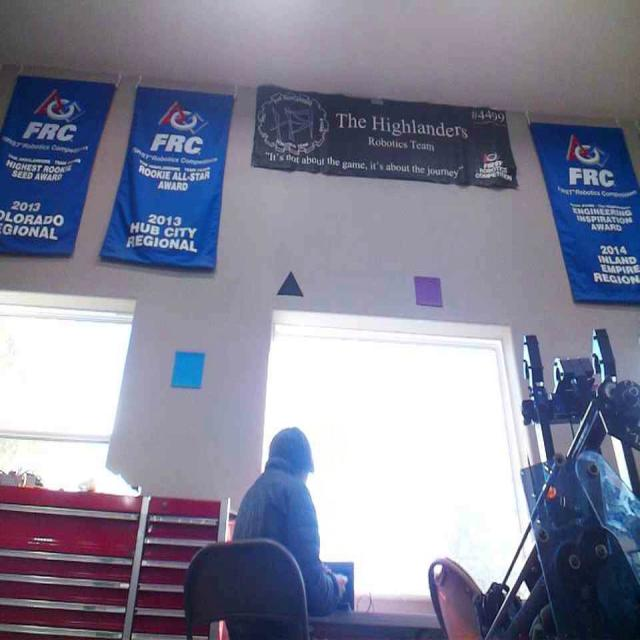square_blue: (170, 351, 205, 388)
square_purple: (413, 275, 442, 305)
triangle_black: (276, 269, 304, 296)
